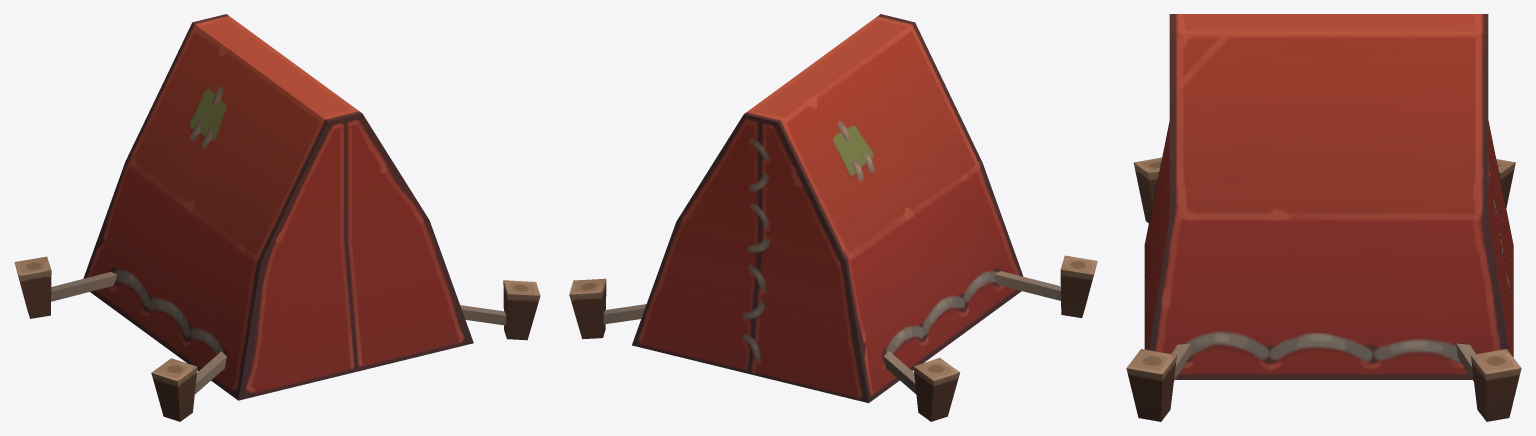
File: forest_tent_01.fbx
3 views of the same model, side by side, from view 1: azimuth 30°, elevation 25°; view 2: azimuth 150°, elevation 25°; view 3: azimuth 270°, elevation 25° (orthographic). The views are drawn at different scales.
Parts seen in each view (by area): view 1: forest_tent_01; view 2: forest_tent_01; view 3: forest_tent_01.
Boxes of the visible parts, <box> form: forest_tent_01: <box>14,14,540,421</box>; forest_tent_01: <box>569,14,1097,421</box>; forest_tent_01: <box>1126,14,1521,421</box>.
Bounding box in the file's own units: 3.24 × 2.06 × 2.48.
